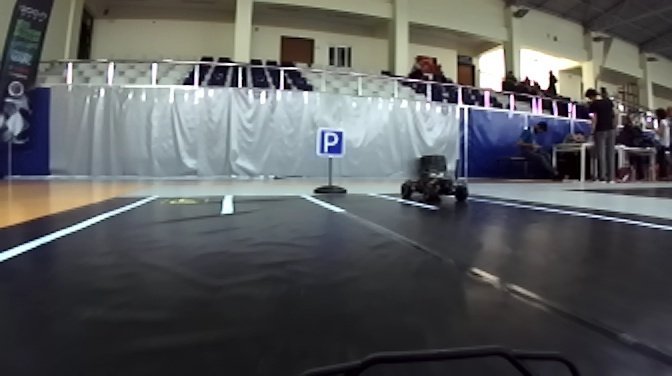park: (316, 125, 348, 161)
